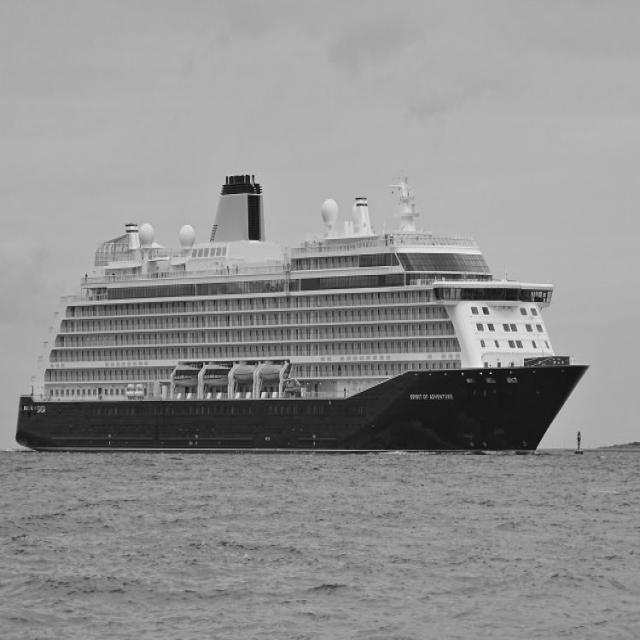cruises: (13, 171, 593, 466)
